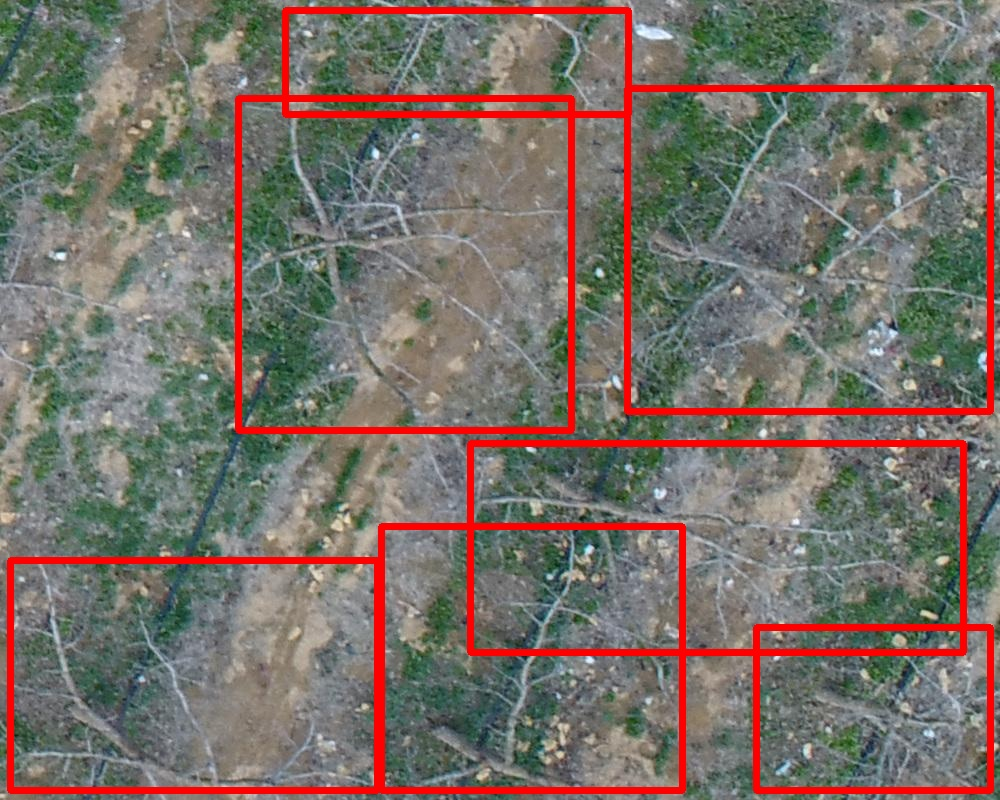apple: (627, 88, 990, 411), (238, 98, 571, 430), (470, 443, 963, 652), (10, 560, 377, 790), (381, 526, 682, 790), (756, 627, 990, 790), (285, 10, 628, 114)
